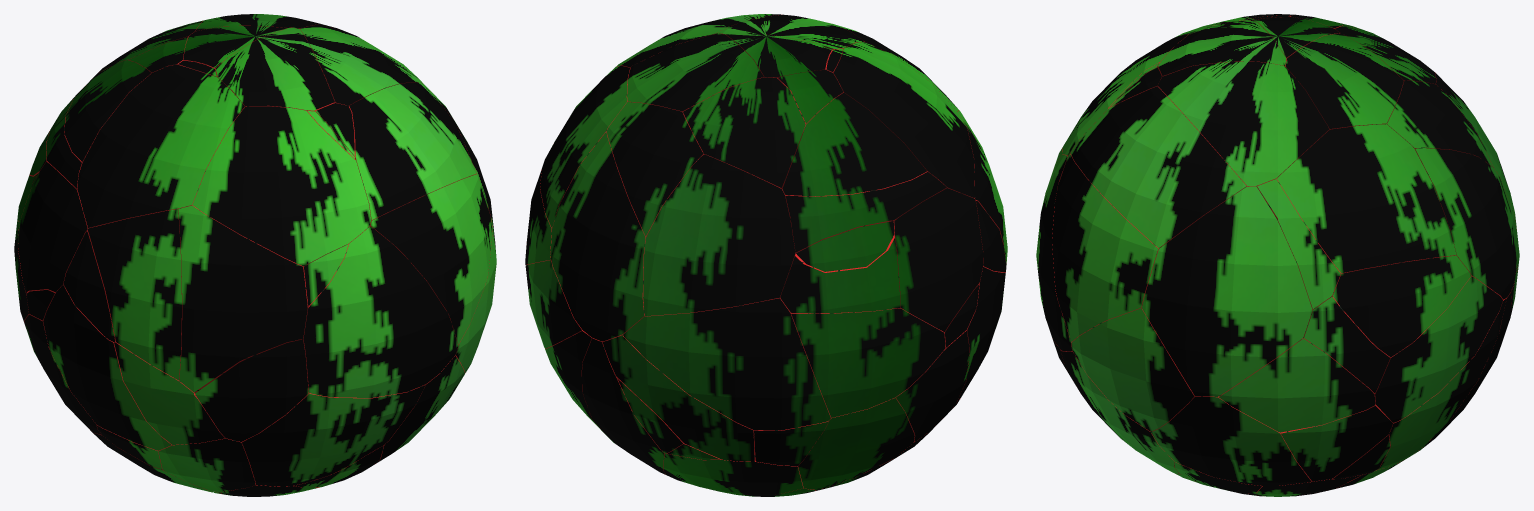
Rendered from suika.fbx.
3 renders of one model, left to right at view 1: azimuth 30°, elevation 25°; view 2: azimuth 150°, elevation 25°; view 3: azimuth 270°, elevation 25°, orthographic.
Parts seen in each view (by area): view 1: Sphere_cell.049, Sphere_cell.034, Sphere_cell.025, Sphere_cell.082, Sphere_cell.058, Sphere_cell.064, Sphere_cell.048, Sphere_cell.085, Sphere_cell.022, Sphere_cell.017, Sphere_cell.092, Sphere_cell.009 (+22 smaller); view 2: Sphere_cell.055, Sphere_cell.031, Sphere_cell.026, Sphere_cell.059, Sphere_cell.025, Sphere_cell.009, Sphere_cell.086, Sphere_cell.018, Sphere_cell.033, Sphere_cell.076, Sphere_cell.021, Sphere_cell.007 (+21 smaller); view 3: Sphere_cell.032, Sphere_cell.023, Sphere_cell.058, Sphere_cell.045, Sphere_cell.048, Sphere_cell.026, Sphere_cell.040, Sphere_cell.054, Sphere_cell.012, Sphere_cell.041, Sphere_cell.006, Sphere_cell.076 (+17 smaller).
Part boxes in pixels (x1,y1,x2,y2): Sphere_cell.049: [192, 106, 371, 266]; Sphere_cell.034: [303, 226, 458, 397]; Sphere_cell.025: [77, 64, 244, 228]; Sphere_cell.082: [178, 205, 308, 392]; Sphere_cell.058: [349, 82, 476, 220]; Sphere_cell.064: [87, 209, 181, 380]; Sphere_cell.048: [369, 174, 492, 344]; Sphere_cell.085: [241, 384, 425, 486]; Sphere_cell.022: [43, 284, 171, 450]; Sphere_cell.017: [195, 339, 308, 441]; Sphere_cell.092: [212, 27, 334, 111]; Sphere_cell.009: [18, 162, 88, 294]; Sphere_cell.055: [643, 154, 795, 315]; Sphere_cell.031: [623, 297, 830, 430]; Sphere_cell.026: [550, 132, 645, 341]; Sphere_cell.059: [791, 308, 945, 417]; Sphere_cell.025: [831, 42, 974, 198]; Sphere_cell.009: [893, 188, 983, 332]; Sphere_cell.086: [781, 92, 926, 196]; Sphere_cell.018: [683, 77, 805, 188]; Sphere_cell.033: [606, 102, 704, 236]; Sphere_cell.076: [627, 34, 763, 111]; Sphere_cell.021: [602, 333, 754, 461]; Sphere_cell.007: [798, 397, 914, 489]; Sphere_cell.032: [1142, 186, 1312, 396]; Sphere_cell.023: [1277, 124, 1456, 273]; Sphere_cell.058: [1070, 86, 1246, 248]; Sphere_cell.045: [1157, 61, 1329, 186]; Sphere_cell.048: [1052, 154, 1158, 342]; Sphere_cell.026: [1415, 148, 1516, 299]; Sphere_cell.040: [1151, 394, 1311, 485]; Sphere_cell.054: [1071, 308, 1194, 431]; Sphere_cell.012: [1333, 255, 1471, 357]; Sphere_cell.041: [1219, 338, 1375, 432]; Sphere_cell.006: [1374, 276, 1502, 422]; Sphere_cell.076: [1286, 33, 1403, 130].
Size of the model in its own units: 200 by 200 by 200.
Materials: 2 (2 with a texture image).
